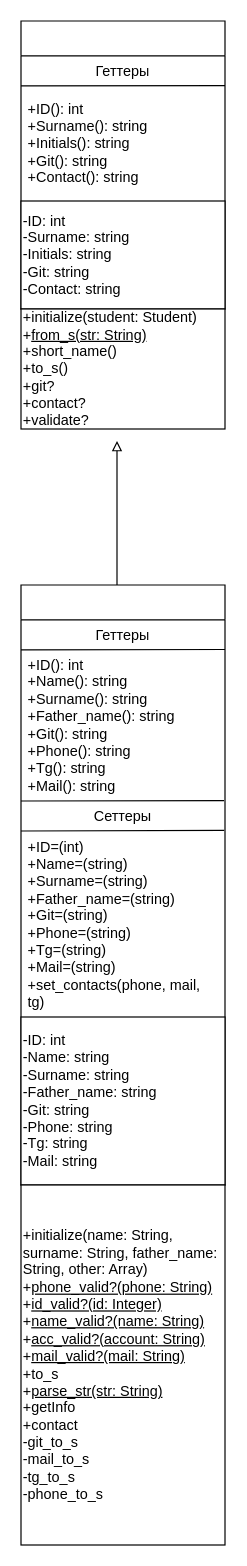
Image size: 247x1566. Some labels were removed from this diagram. Here are the shapes that lost their labels. From the top down, the box of each, then its label:
(20, 20, 225, 309): Student_short
(20, 584, 225, 1185): Student
